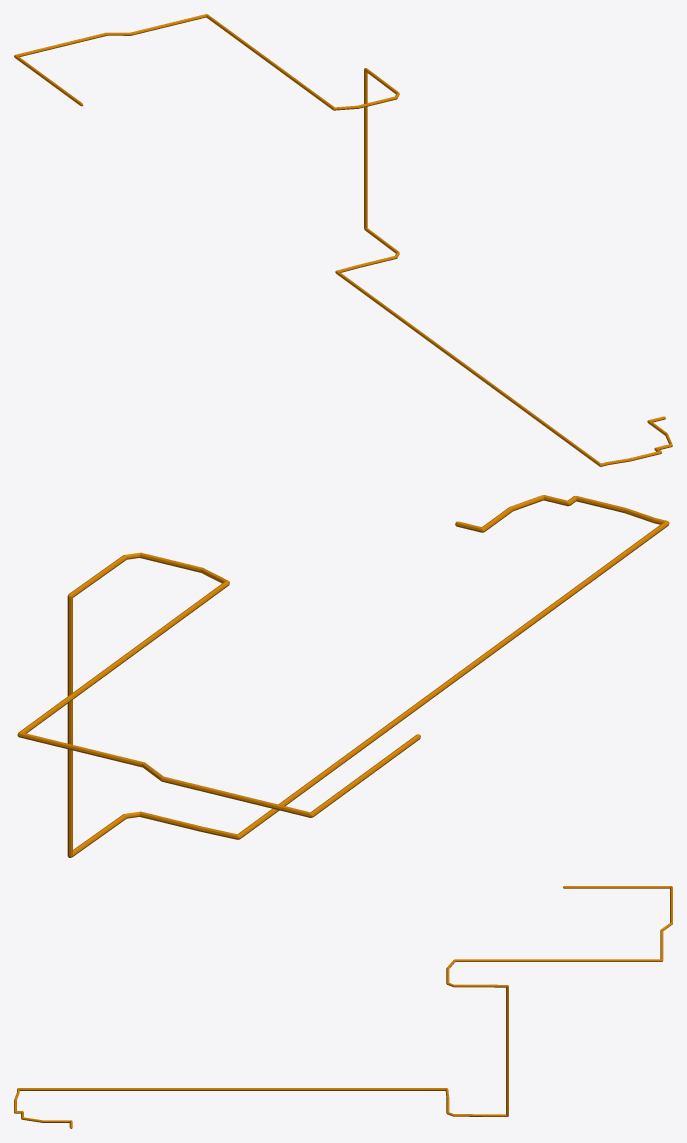
3 renders of one model, top to bottom at view 1: azimuth 30°, elevation 25°; view 2: azimuth 150°, elevation 25°; view 3: azimuth 270°, elevation 25°, orthographic. The views are drawn at different scales.
Size of the model in its own units: 1854 by 1020 by 4613.
